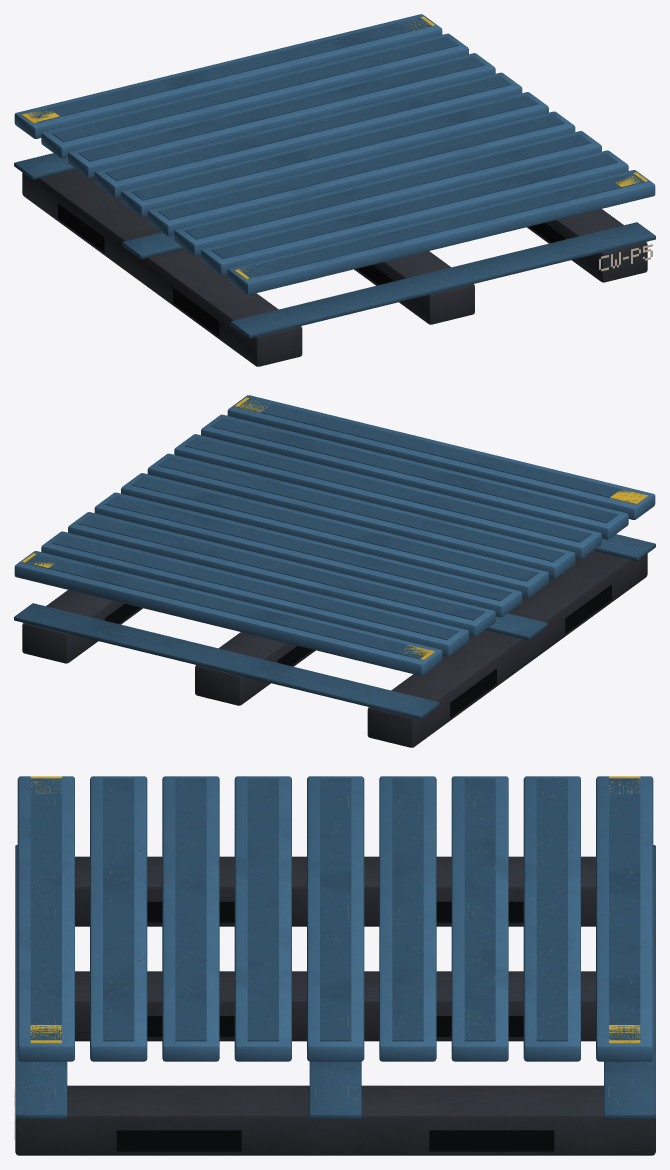
File: steel_pallet.glb
3 renders of one model, top to bottom at view 1: azimuth 30°, elevation 25°; view 2: azimuth 150°, elevation 25°; view 3: azimuth 270°, elevation 25°, orthographic. The views are drawn at different scales.
Parts seen in each view (by area): view 1: SteelPalletBody; view 2: SteelPalletBody; view 3: SteelPalletBody.
Part boxes in pixels (x1,y1,x2,y2): SteelPalletBody: (14,14,655,366); SteelPalletBody: (14,395,655,747); SteelPalletBody: (14,776,655,1155).
Bounding box in the file's own units: 1.23 × 0.25 × 1.23.
Materials: 6 (5 with a texture image).
